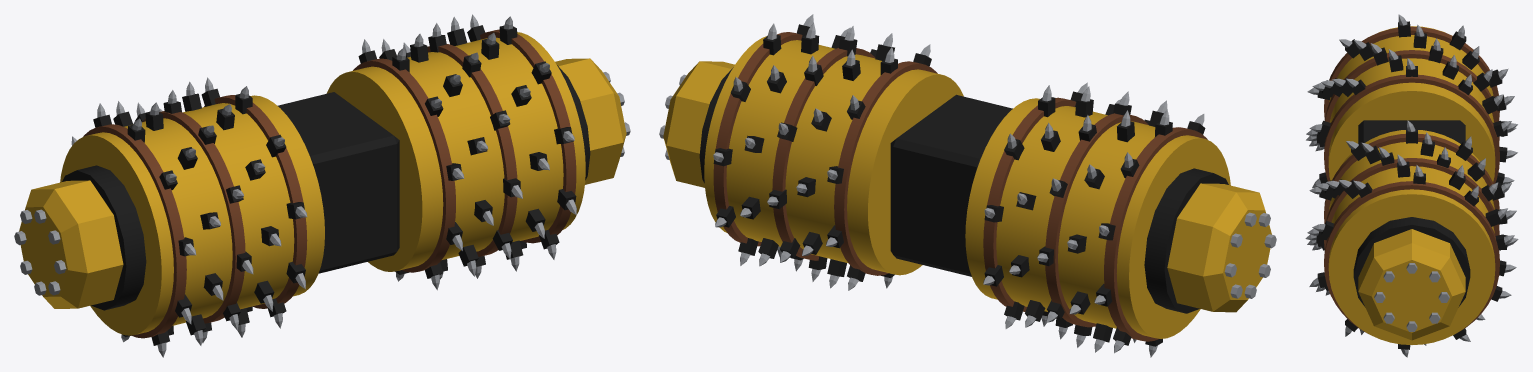
File: mk1_head.obj
3 views of the same model, side by side, from view 1: azimuth 30°, elevation 25°; view 2: azimuth 150°, elevation 25°; view 3: azimuth 270°, elevation 25° (orthographic). The views are drawn at different scales.
Parts seen in each view (by area): view 1: mk1_head; view 2: mk1_head; view 3: mk1_head.
Boxes of the visible parts, x1,y1,x2,y2 form: mk1_head: [14, 14, 630, 357]; mk1_head: [659, 14, 1276, 357]; mk1_head: [1305, 14, 1518, 357].
Bounding box in the file's own units: 3.98 × 1.59 × 1.59.
